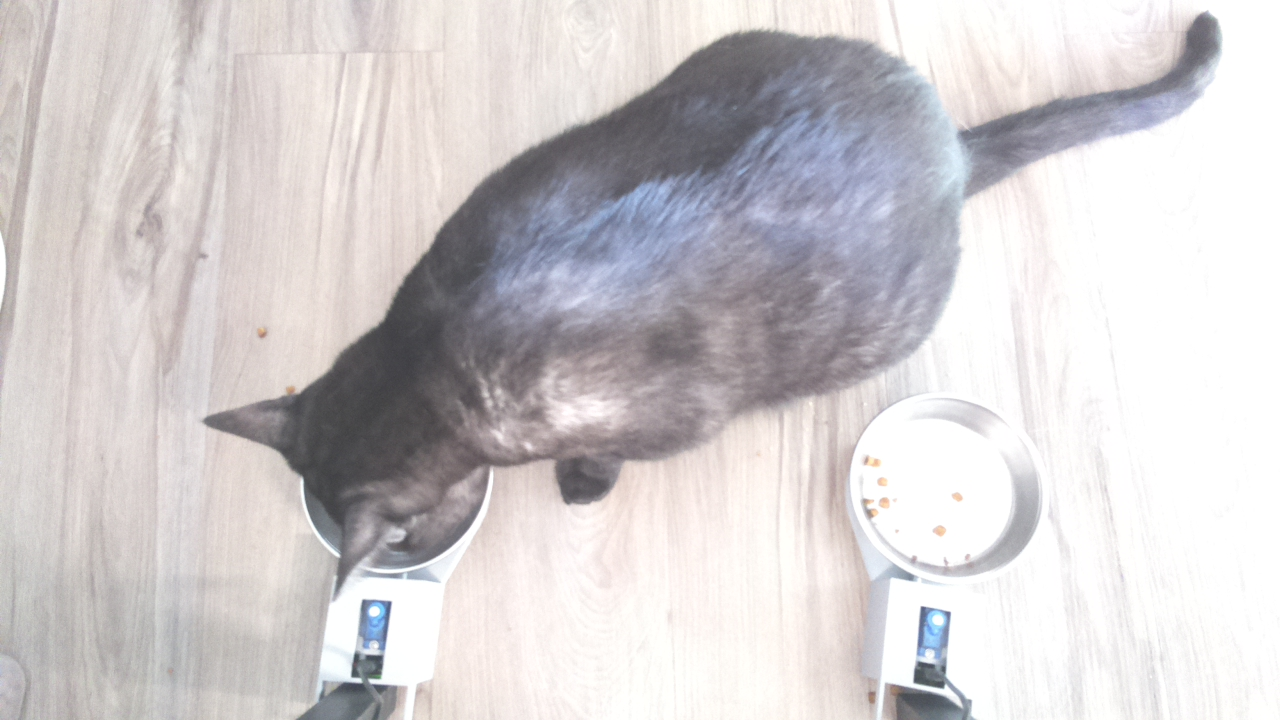open_bowl: (851, 389, 1052, 591)
saki_eating: (201, 303, 495, 612)
